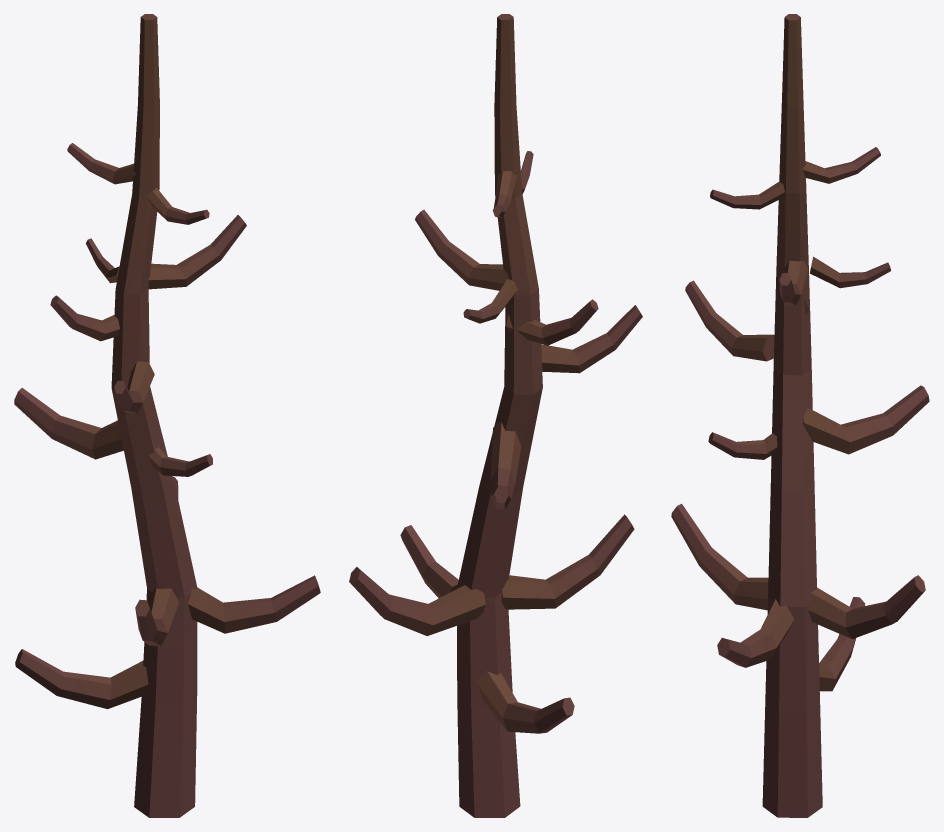
The model's file is deadtree2.fbx.
The picture shows the model from 3 angles, left to right: view 1: azimuth 30°, elevation 25°; view 2: azimuth 150°, elevation 25°; view 3: azimuth 270°, elevation 25°; orthographic projection.
Visible parts, largest first — view 1: Cylinder.013; view 2: Cylinder.013; view 3: Cylinder.013.
Part boxes in pixels (<box>): Cylinder.013: <box>14,14,320,817</box>; Cylinder.013: <box>349,14,642,817</box>; Cylinder.013: <box>671,14,929,817</box>.
Size of the model in its own units: 265 by 846 by 253.
